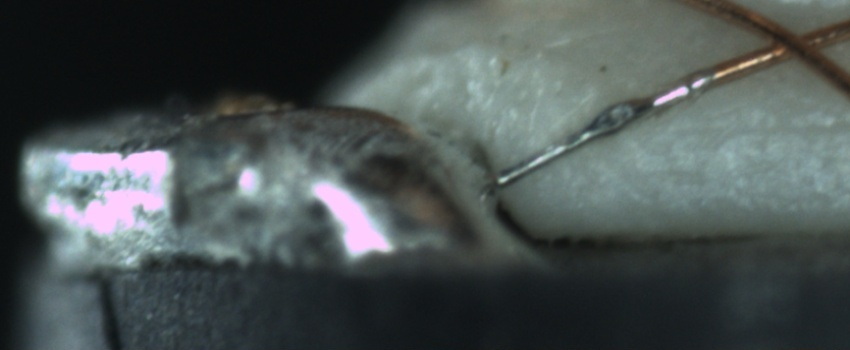CL: (746, 13, 839, 72)
DL: (618, 100, 850, 164)
TB: (589, 94, 655, 141)
TS: (495, 74, 709, 187)
TTCW: (491, 51, 768, 191)
